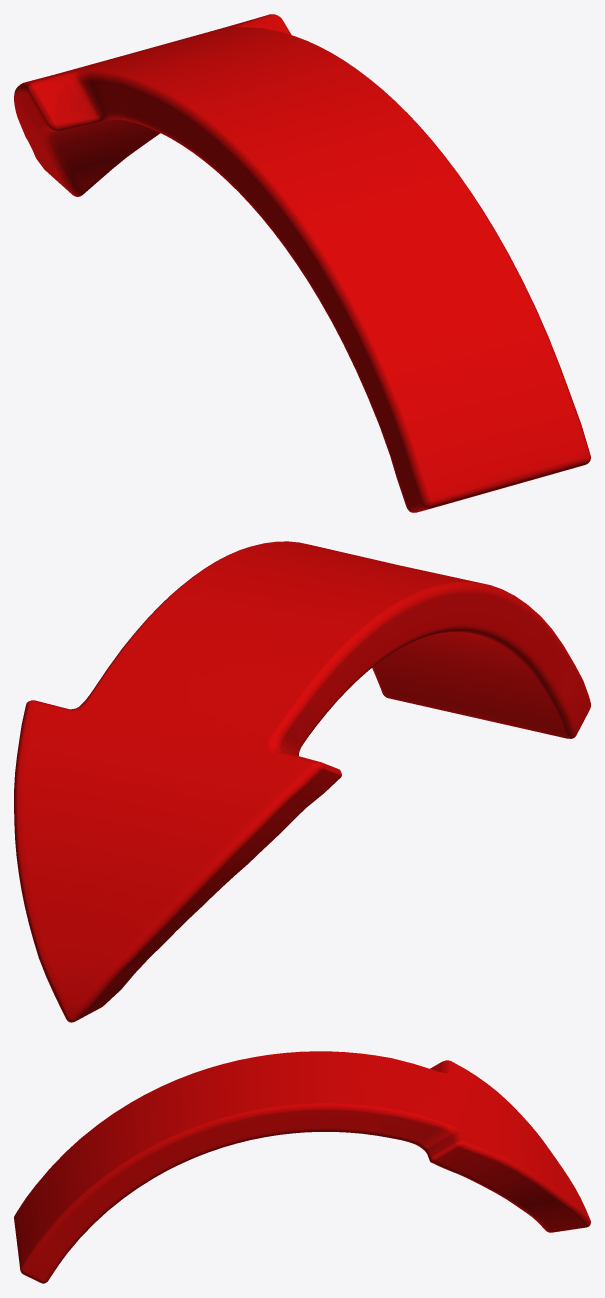
File: arrowCurved.fbx
The picture shows the model from 3 angles, top to bottom: view 1: azimuth 30°, elevation 25°; view 2: azimuth 150°, elevation 25°; view 3: azimuth 270°, elevation 25°; orthographic projection. The views are drawn at different scales.
Parts seen in each view (by area): view 1: node_id5; view 2: node_id5; view 3: node_id5.
Part boxes in pixels (left/top/right/bottom): node_id5: left=14, top=14, right=590, bottom=512; node_id5: left=14, top=541, right=590, bottom=1022; node_id5: left=14, top=1051, right=590, bottom=1283.
Bounding box in the file's own units: 0.1528 × 0.145 × 0.4335.
1 material, 1 textured.
